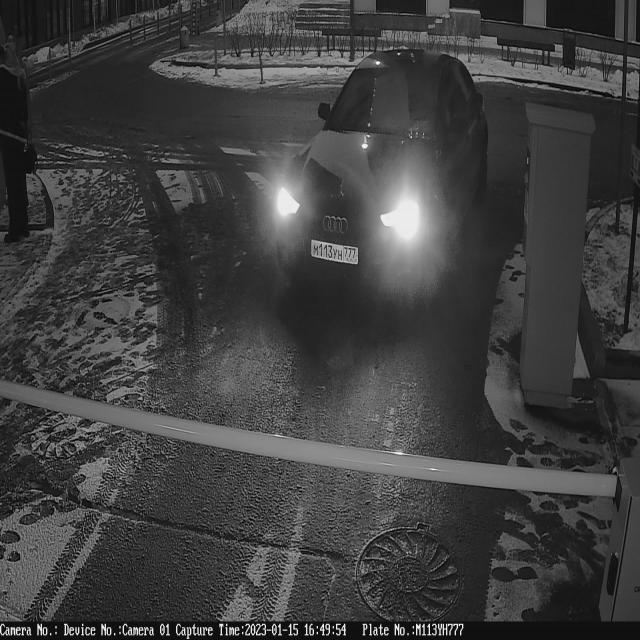car-plate-numbers: (311, 237, 361, 269)
